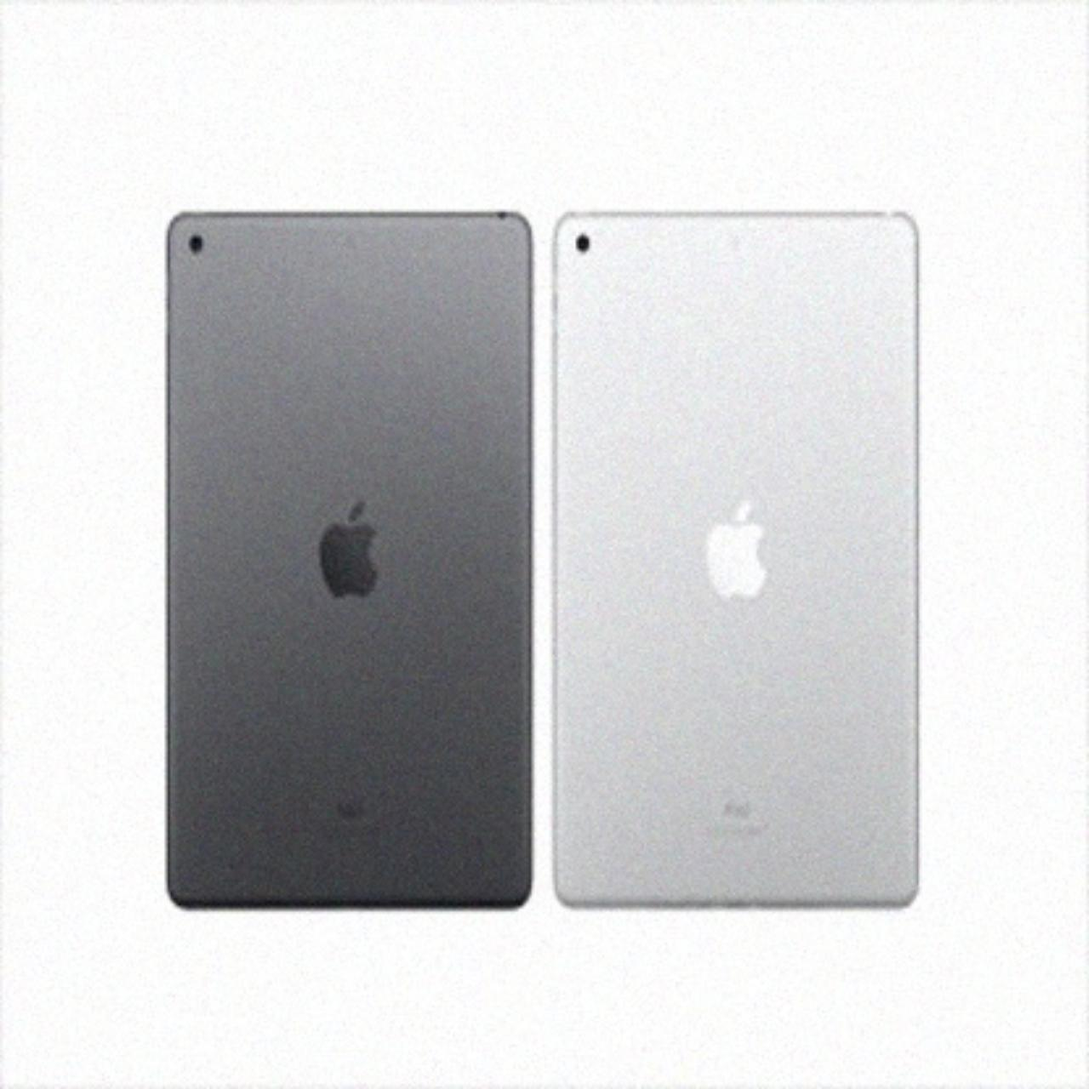Tablet_PC: (529, 202, 929, 916), (160, 202, 544, 924)
